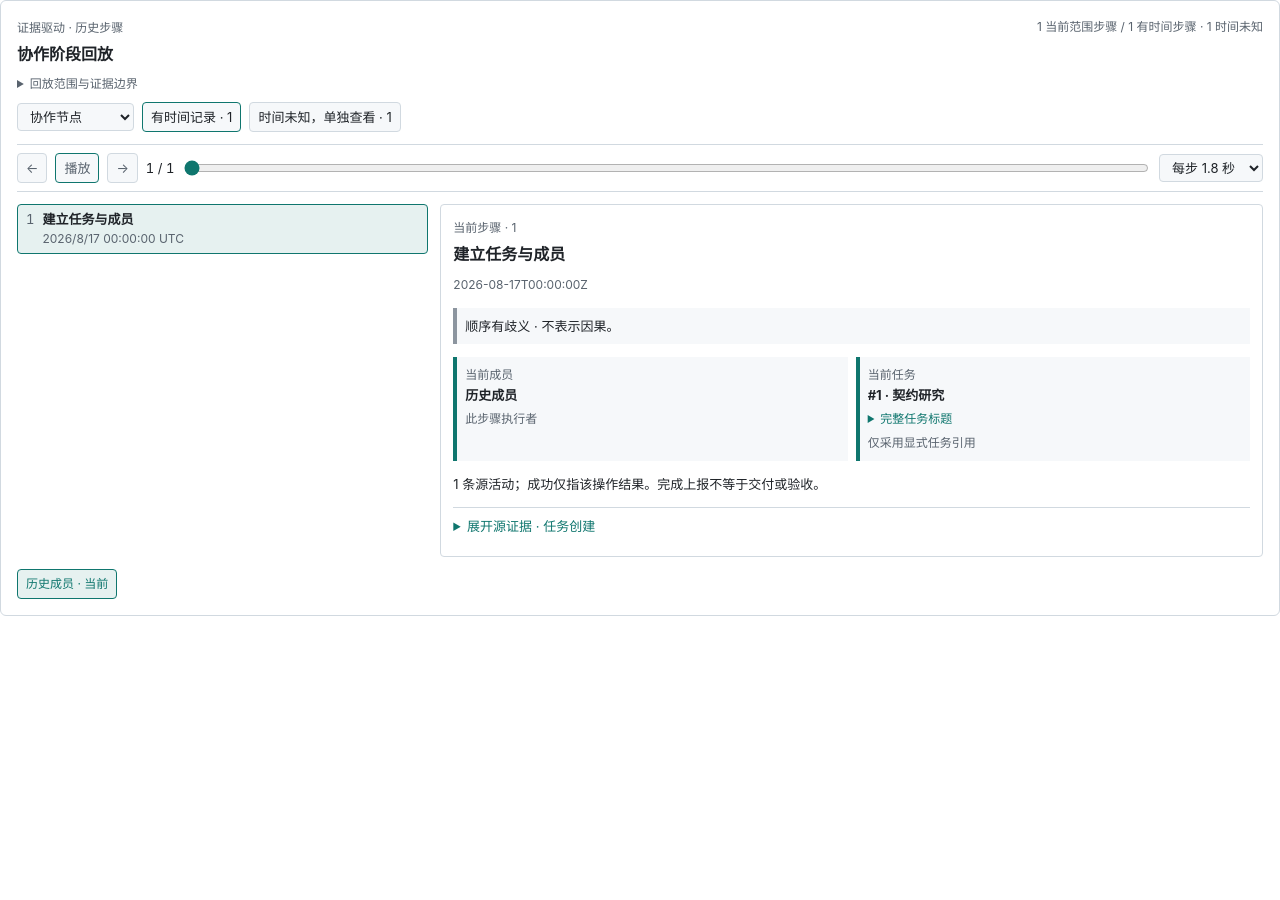
Test case: stage playback and historical boundaries › excludes unknown-clock records from autoplay and reviews them separately
This screenshot has width=1280, height=900.
Expected: the text with class "sr-count" shows "1 有时间步骤 · 1 时间未知", [1037, 17, 1263, 37]
Click the button "时间未知，单独查看 · 1" at point(325, 117), box [249, 102, 401, 132]
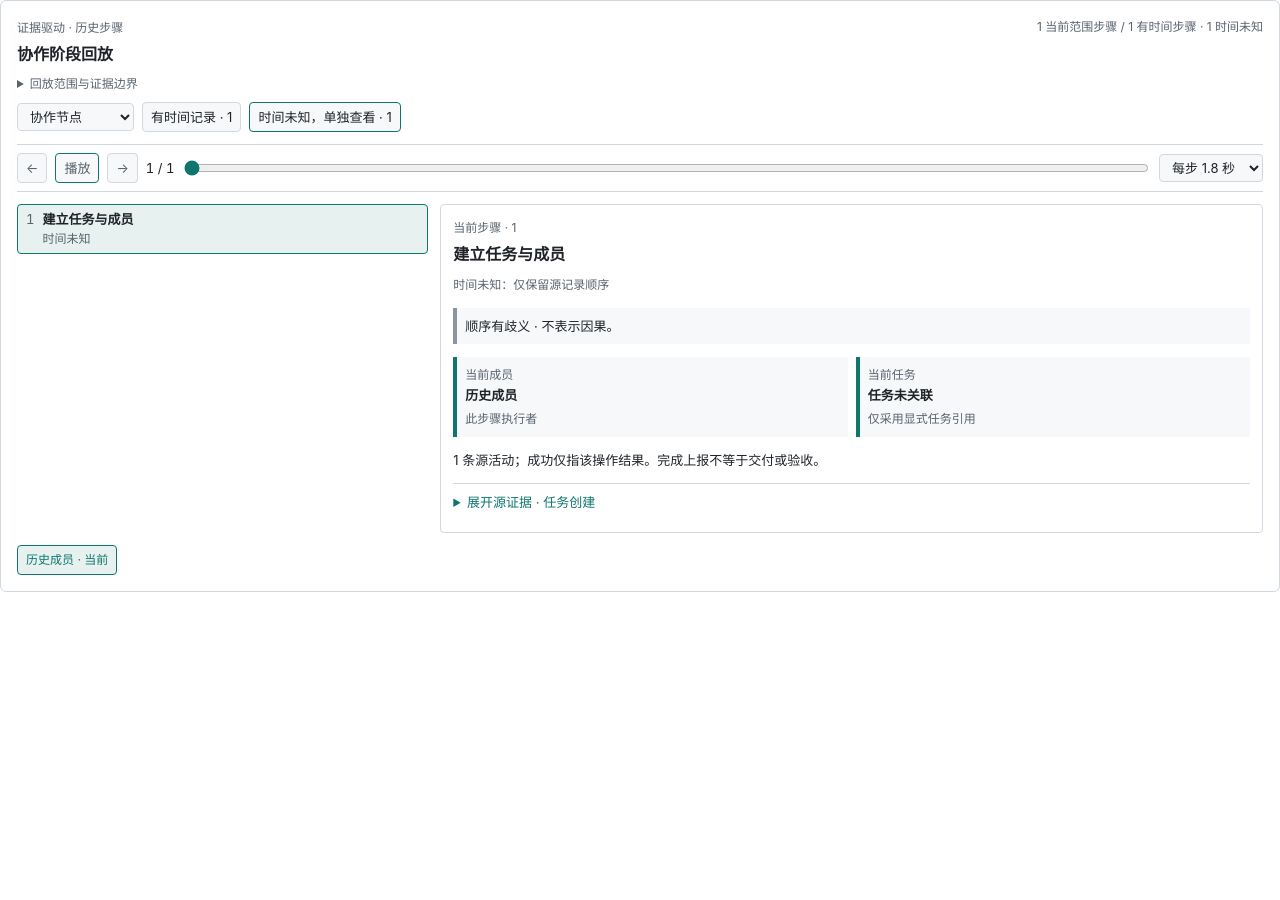
Expected: the button "播放" is disabled, [55, 153, 99, 183]
Now the text "时间未知：仅保留源记录顺序" is shown, box [453, 277, 609, 292]
